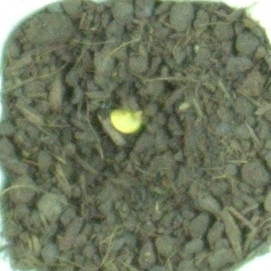pepper seed: (37, 39, 181, 174)
